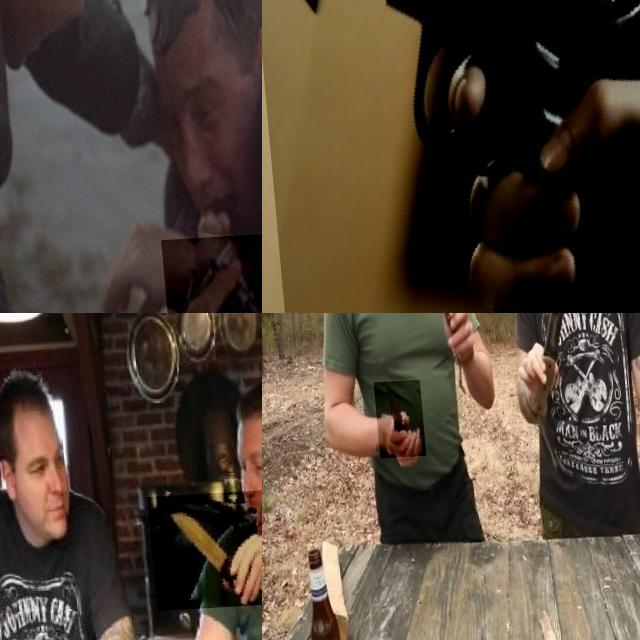-: (142, 496, 262, 615), (410, 313, 469, 392), (367, 382, 418, 461)
gun-knife-thesis - v11 Yolov5 augmented: (262, 0, 640, 313), (154, 237, 262, 313)
